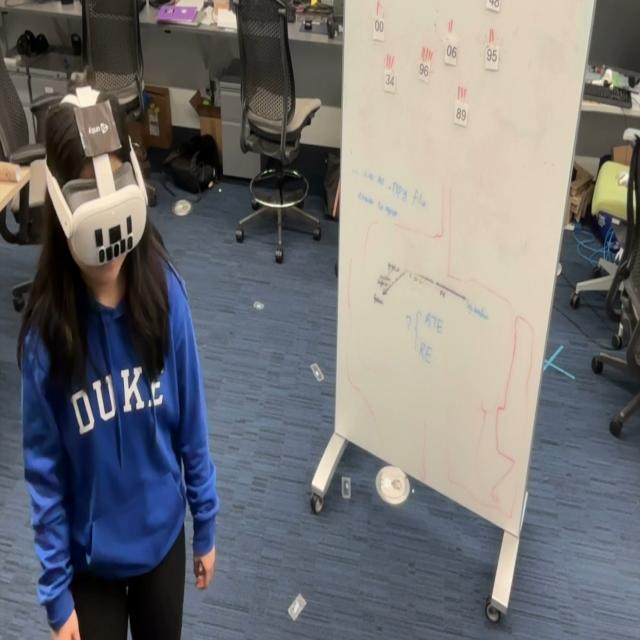Headset: (43, 86, 149, 270)
UnityLogo: (72, 95, 123, 160)
